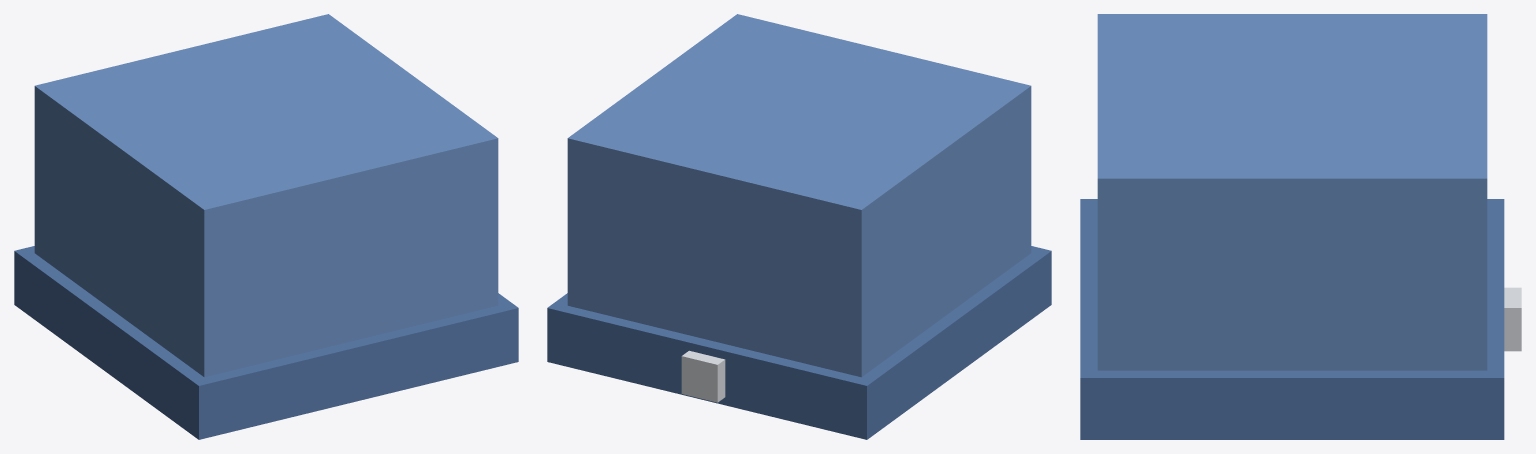
The model's file is caminhoneiro_manga_inf.glb.
3 views of the same model, side by side, from view 1: azimuth 30°, elevation 25°; view 2: azimuth 150°, elevation 25°; view 3: azimuth 270°, elevation 25° (orthographic). The views are drawn at different scales.
Parts seen in each view (by area): view 1: caminhoneiro_manga_inf; view 2: caminhoneiro_manga_inf; view 3: caminhoneiro_manga_inf.
Part boxes in pixels (bbox=[...]): caminhoneiro_manga_inf: bbox=[14, 14, 518, 439]; caminhoneiro_manga_inf: bbox=[547, 14, 1051, 439]; caminhoneiro_manga_inf: bbox=[1080, 14, 1521, 439].
Size of the model in its own units: 0.31 by 0.21 by 0.3225.
